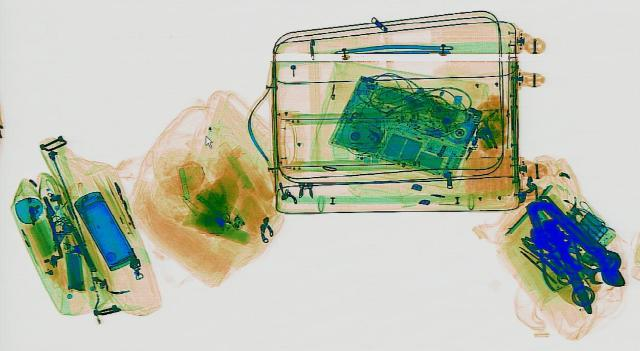Wrench: (522, 191, 638, 282)
